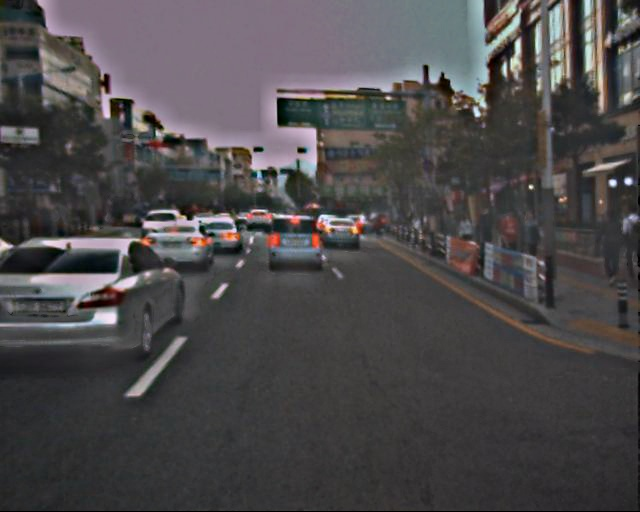person: (592, 210, 623, 285), (614, 207, 640, 283), (514, 212, 541, 277), (475, 207, 500, 268), (497, 214, 520, 271), (458, 212, 479, 262)
